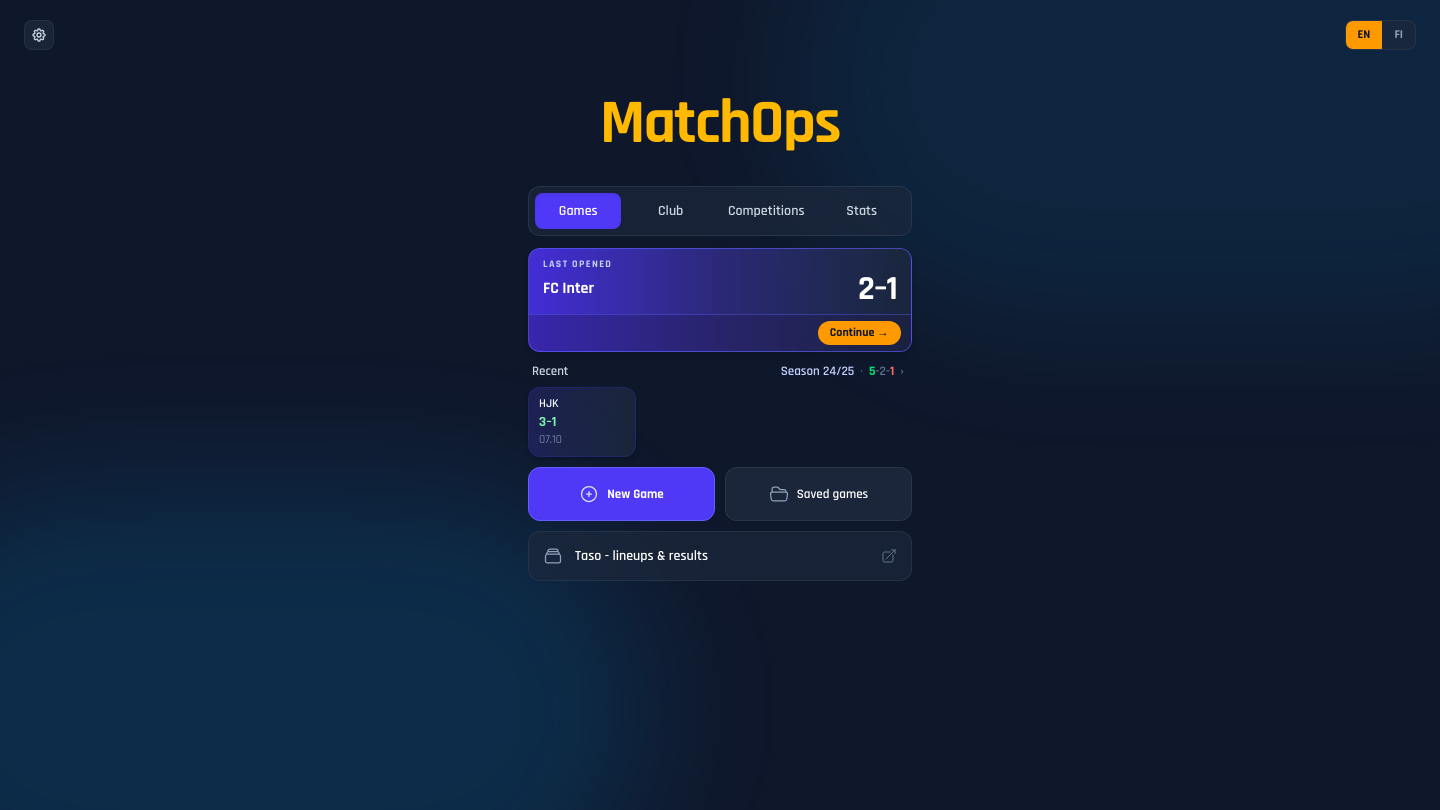
it: Home dashboard view (opt-in) › Club tab shows the counts header when the dashboard is on
Click the tab "Club": (671, 211) [628, 193, 714, 229]
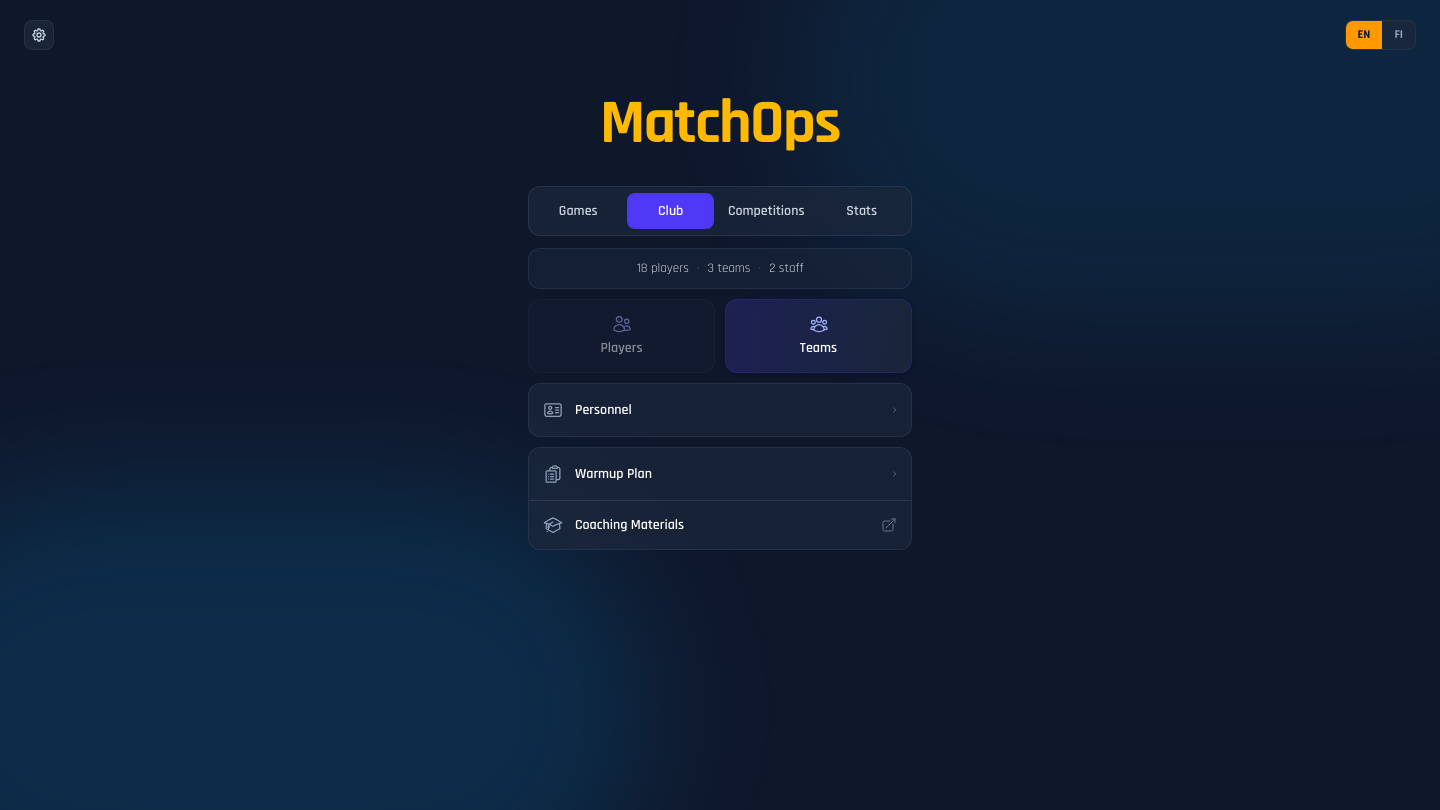
Expected: the text "18 players" is shown, [637, 259, 689, 278]
Expected: the text "3 teams" is shown, [708, 259, 750, 278]
